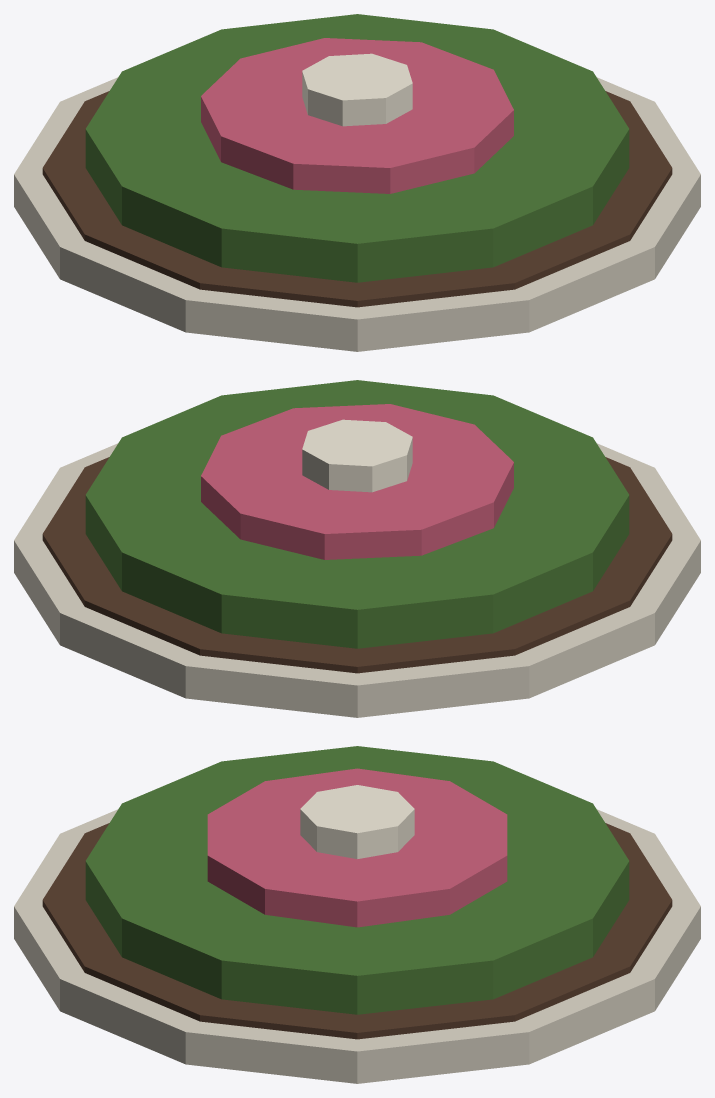
The model's file is flowerbed.glb.
The picture shows the model from 3 angles, top to bottom: view 1: azimuth 30°, elevation 25°; view 2: azimuth 150°, elevation 25°; view 3: azimuth 270°, elevation 25°; orthographic projection.
Parts seen in each view (by area): view 1: flowerbed; view 2: flowerbed; view 3: flowerbed.
Boxes of the visible parts, x1=… form: flowerbed: x1=14, y1=14, x2=700, y2=351; flowerbed: x1=14, y1=380, x2=700, y2=717; flowerbed: x1=14, y1=746, x2=700, y2=1083.
Size of the model in its own units: 4.8 by 1 by 4.8.
